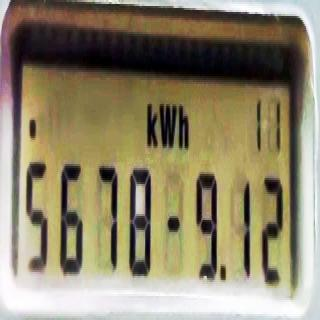-: (167, 210, 181, 240), (28, 107, 37, 145), (219, 257, 227, 287)
1: (241, 174, 253, 288), (274, 94, 283, 159), (255, 93, 262, 160)
2: (261, 171, 285, 297)
5: (23, 156, 50, 283)
6: (59, 158, 85, 283)
7: (98, 153, 119, 277)
8: (126, 159, 154, 285)
9: (193, 162, 219, 290)
